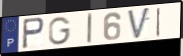6: (102, 11, 123, 42)
G: (47, 16, 72, 46)
I: (86, 12, 93, 45), (155, 7, 162, 38)
P: (21, 16, 46, 50)
V: (126, 6, 152, 41)
